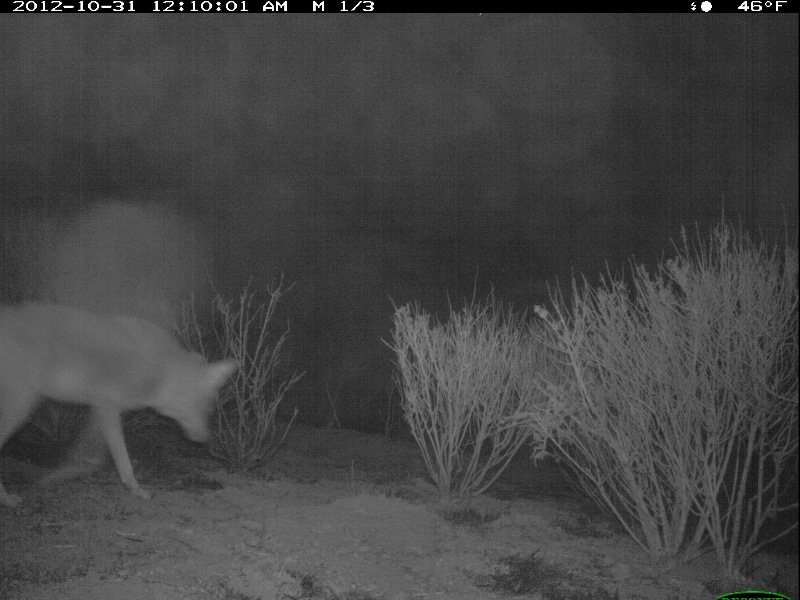coyote: (1, 299, 246, 516)
